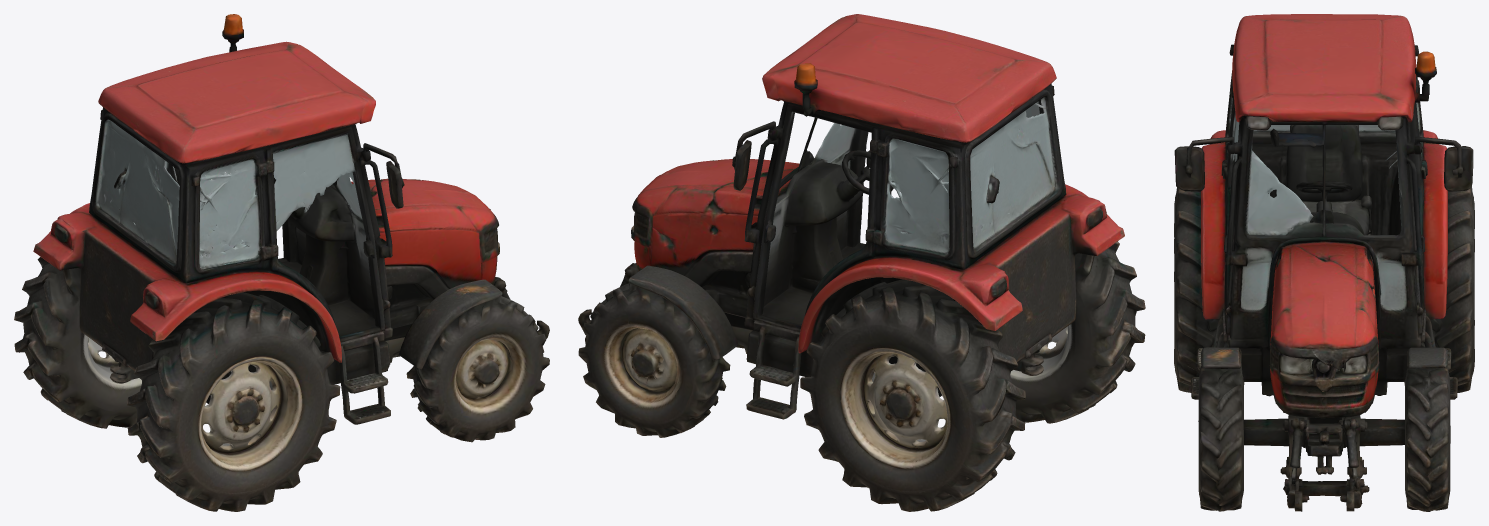
File: tractor_broken.glb
3 renders of one model, left to right at view 1: azimuth 30°, elevation 25°; view 2: azimuth 150°, elevation 25°; view 3: azimuth 270°, elevation 25°, orthographic. The views are drawn at different scales.
Parts seen in each view (by area): view 1: tripo_node_a71b830e-191f-4c82-a1c4-9c5a621aebd5; view 2: tripo_node_a71b830e-191f-4c82-a1c4-9c5a621aebd5; view 3: tripo_node_a71b830e-191f-4c82-a1c4-9c5a621aebd5.
Boxes of the visible parts, x1,y1,x2,y2 form: tripo_node_a71b830e-191f-4c82-a1c4-9c5a621aebd5: (14, 14, 549, 511); tripo_node_a71b830e-191f-4c82-a1c4-9c5a621aebd5: (578, 14, 1145, 511); tripo_node_a71b830e-191f-4c82-a1c4-9c5a621aebd5: (1174, 14, 1474, 511).
Bounding box in the file's own units: 0.9805 × 0.7913 × 0.5638.
1 material, 1 textured.
